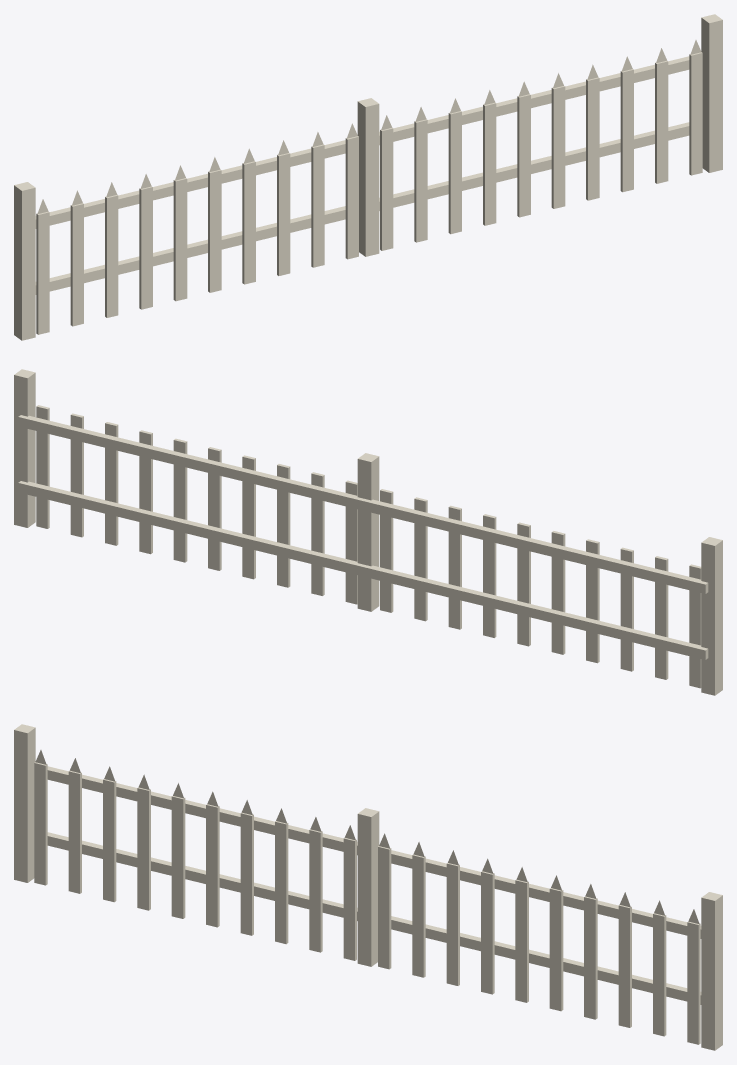
File: picket.glb
3 views of the same model, one above another, from view 1: azimuth 30°, elevation 25°; view 2: azimuth 150°, elevation 25°; view 3: azimuth 330°, elevation 25° (orthographic).
Visible parts, largest first — view 1: picket; view 2: picket; view 3: picket.
Boxes of the visible parts, <box> form: picket: <box>14,14,722,340</box>; picket: <box>14,369,722,695</box>; picket: <box>14,724,722,1050</box>.
Size of the model in its own units: 6.12 by 1.25 by 0.16.
